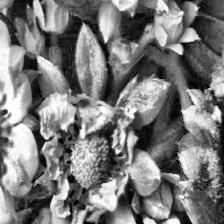Blossom Blight: (55, 114, 127, 208)
